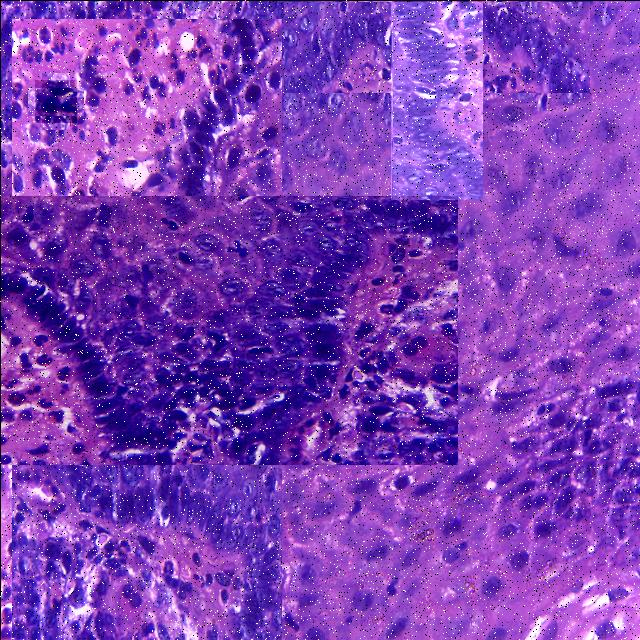Nuclear Hyperchromatism: (0, 195, 457, 464), (390, 0, 482, 199), (34, 79, 76, 122)
